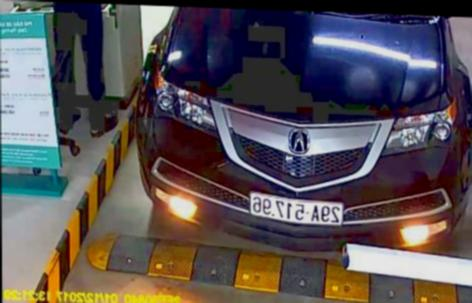License_Plate: (247, 194, 346, 229)
